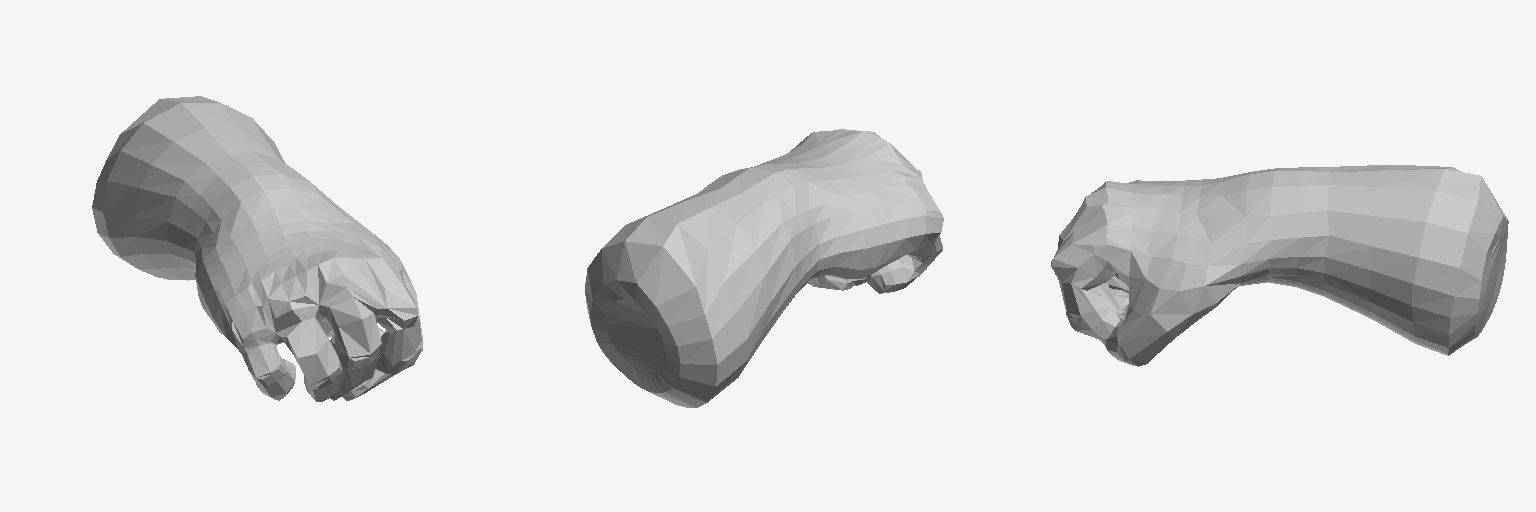
The model's file is GEO SuperFist.obj.
3 views of the same model, side by side, from view 1: azimuth 30°, elevation 25°; view 2: azimuth 150°, elevation 25°; view 3: azimuth 270°, elevation 25° (orthographic).
Visible parts, largest first — view 1: Garth_Geo_Combined GARTH_RIG; view 2: Garth_Geo_Combined GARTH_RIG; view 3: Garth_Geo_Combined GARTH_RIG.
Boxes of the visible parts, <box> form: Garth_Geo_Combined GARTH_RIG: <box>92,96,422,401</box>; Garth_Geo_Combined GARTH_RIG: <box>585,129,943,407</box>; Garth_Geo_Combined GARTH_RIG: <box>1051,165,1508,366</box>.
Size of the model in its own units: 25.9 by 22.13 by 50.43.